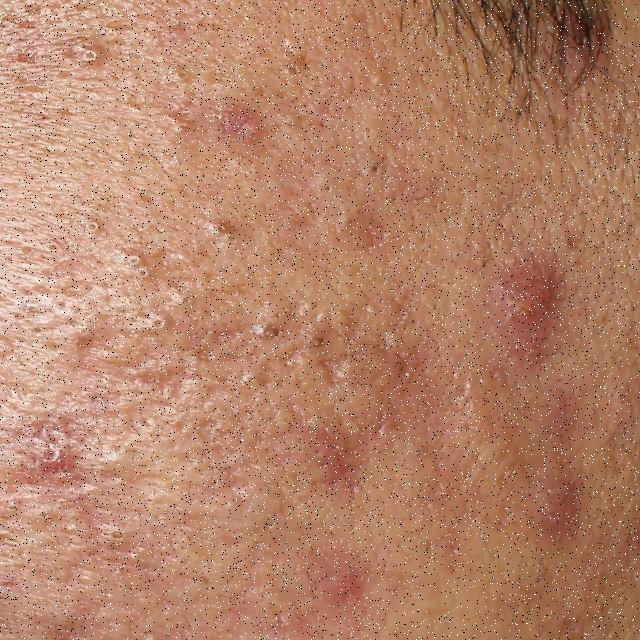nodules: (484, 246, 574, 386), (13, 408, 92, 507), (289, 421, 376, 505), (522, 462, 595, 548), (312, 554, 386, 626)
